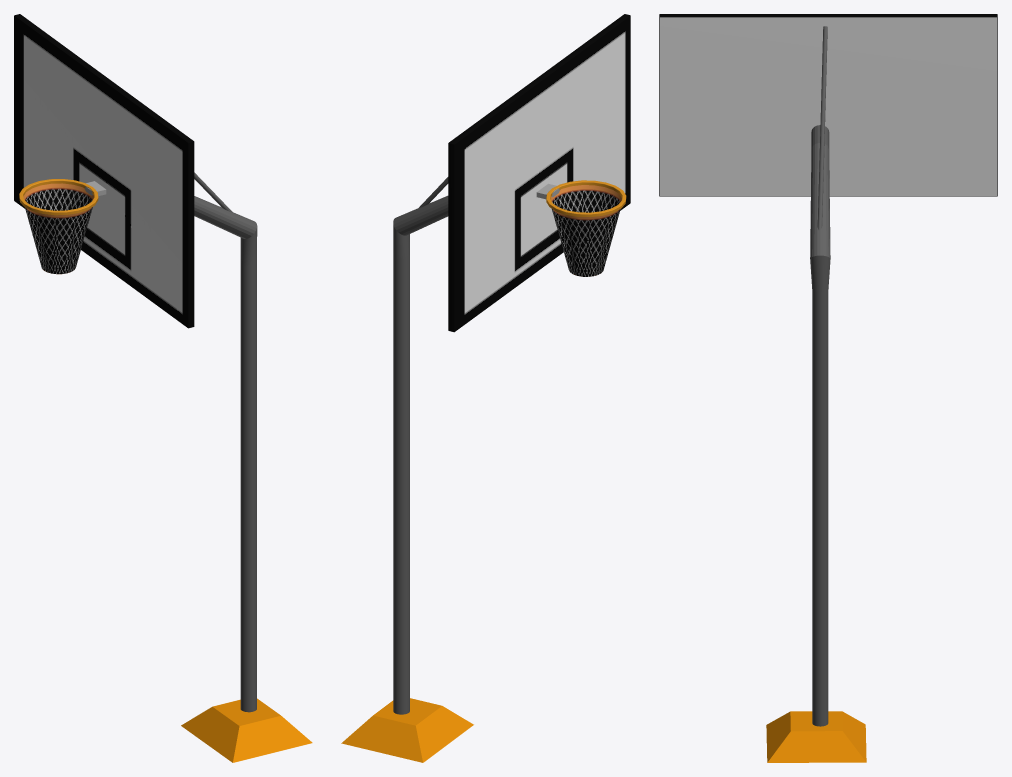
The model's file is poste_basket.fbx.
3 views of the same model, side by side, from view 1: azimuth 30°, elevation 25°; view 2: azimuth 150°, elevation 25°; view 3: azimuth 270°, elevation 25° (orthographic). The views are drawn at different scales.
Parts seen in each view (by area): view 1: pPlane65, pCylinder22, pCylinder69, pCube59; view 2: pPlane65, pCylinder22, pCylinder69, pCube59; view 3: pPlane65, pCylinder22, pCube59, pCylinder34.
Part boxes in pixels (x1,y1,x2,y2): pPlane65: (14, 14, 194, 328); pCylinder22: (194, 196, 257, 712); pCylinder69: (19, 179, 98, 274); pCube59: (181, 698, 312, 762); pPlane65: (448, 14, 630, 332); pCylinder22: (393, 195, 448, 714); pCylinder69: (546, 180, 626, 276); pCube59: (341, 698, 473, 762); pPlane65: (659, 14, 997, 196); pCylinder22: (810, 125, 830, 726); pCube59: (766, 711, 866, 762); pCylinder34: (817, 26, 827, 230).
Size of the model in its own units: 51.38 by 131 by 60.29.
